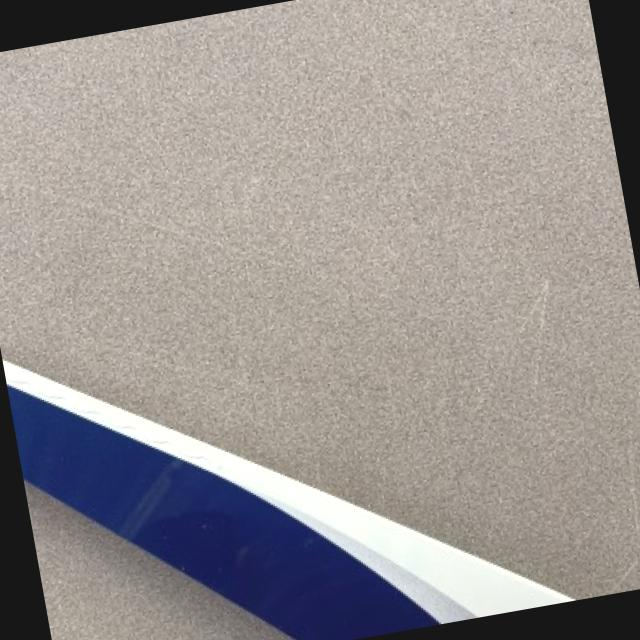healthy: (6, 360, 571, 640), (29, 486, 289, 640)
